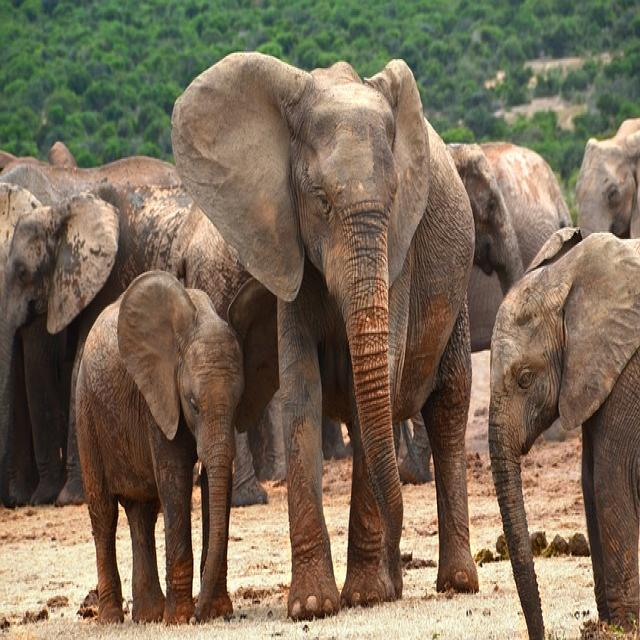elephant: (172, 53, 478, 619), (76, 270, 279, 623), (0, 183, 250, 455), (490, 235, 639, 639), (576, 119, 640, 238)
